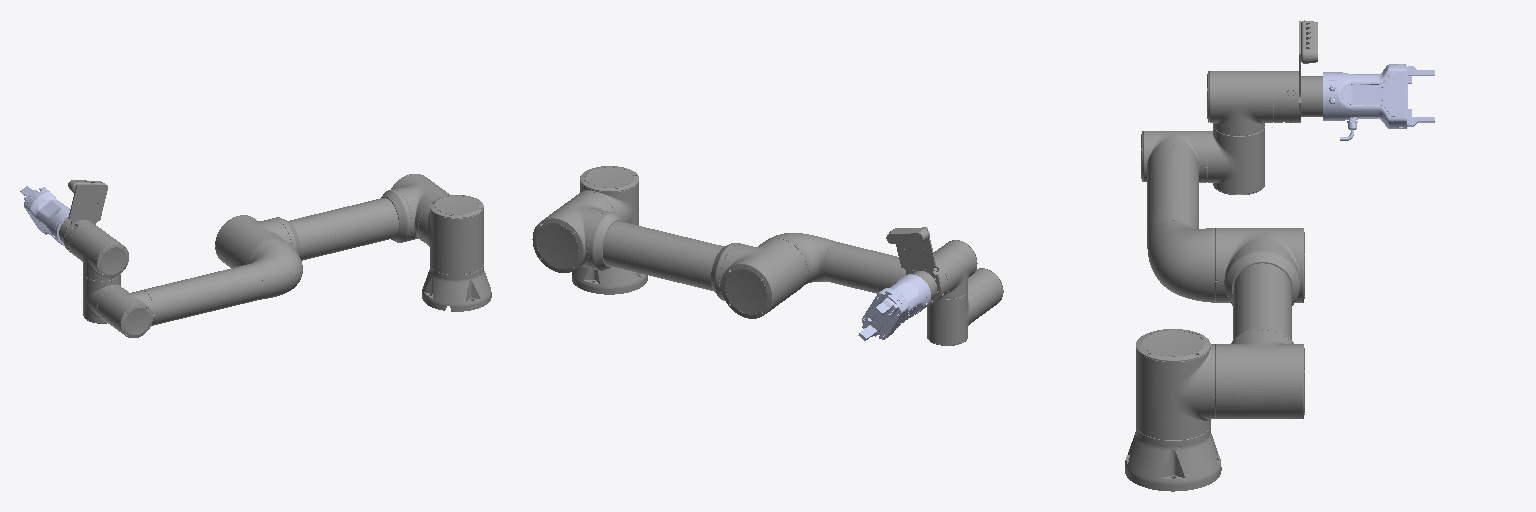
The robot description file, URDF, robot "robot":
<?xml version="1.0" ?>
<!-- =================================================================================== -->
<!-- |    This document was autogenerated by xacro from robot.xacro                    | -->
<!-- |    EDITING THIS FILE BY HAND IS NOT RECOMMENDED                                 | -->
<!-- =================================================================================== -->
<robot name="robot">
  <material name="silver_default">
    <color rgba="0.700 0.700 0.700 1.000"/>
  </material>
  <material name="steel_satin">
    <color rgba="0.6274509803921569 0.6274509803921569 0.6274509803921569 1.0"/>
  </material>
  <material name="opaque202209238">
    <color rgba="0.792156862745098 0.8196078431372549 0.9333333333333333 1.0"/>
  </material>
  <transmission name="Revolute 1_tran">
    <type>transmission_interface/SimpleTransmission</type>
    <joint name="Revolute 1">
      <hardwareInterface>hardware_interface/EffortJointInterface</hardwareInterface>
    </joint>
    <actuator name="Revolute 1_actr">
      <hardwareInterface>hardware_interface/EffortJointInterface</hardwareInterface>
      <mechanicalReduction>1</mechanicalReduction>
    </actuator>
  </transmission>
  <transmission name="Revolute 2_tran">
    <type>transmission_interface/SimpleTransmission</type>
    <joint name="Revolute 2">
      <hardwareInterface>hardware_interface/EffortJointInterface</hardwareInterface>
    </joint>
    <actuator name="Revolute 2_actr">
      <hardwareInterface>hardware_interface/EffortJointInterface</hardwareInterface>
      <mechanicalReduction>1</mechanicalReduction>
    </actuator>
  </transmission>
  <transmission name="Revolute 3_tran">
    <type>transmission_interface/SimpleTransmission</type>
    <joint name="Revolute 3">
      <hardwareInterface>hardware_interface/EffortJointInterface</hardwareInterface>
    </joint>
    <actuator name="Revolute 3_actr">
      <hardwareInterface>hardware_interface/EffortJointInterface</hardwareInterface>
      <mechanicalReduction>1</mechanicalReduction>
    </actuator>
  </transmission>
  <transmission name="Revolute 4_tran">
    <type>transmission_interface/SimpleTransmission</type>
    <joint name="Revolute 4">
      <hardwareInterface>hardware_interface/EffortJointInterface</hardwareInterface>
    </joint>
    <actuator name="Revolute 4_actr">
      <hardwareInterface>hardware_interface/EffortJointInterface</hardwareInterface>
      <mechanicalReduction>1</mechanicalReduction>
    </actuator>
  </transmission>
  <transmission name="Revolute 5_tran">
    <type>transmission_interface/SimpleTransmission</type>
    <joint name="Revolute 5">
      <hardwareInterface>hardware_interface/EffortJointInterface</hardwareInterface>
    </joint>
    <actuator name="Revolute 5_actr">
      <hardwareInterface>hardware_interface/EffortJointInterface</hardwareInterface>
      <mechanicalReduction>1</mechanicalReduction>
    </actuator>
  </transmission>
  <transmission name="Revolute 6_tran">
    <type>transmission_interface/SimpleTransmission</type>
    <joint name="Revolute 6">
      <hardwareInterface>hardware_interface/EffortJointInterface</hardwareInterface>
    </joint>
    <actuator name="Revolute 6_actr">
      <hardwareInterface>hardware_interface/EffortJointInterface</hardwareInterface>
      <mechanicalReduction>1</mechanicalReduction>
    </actuator>
  </transmission>
  <transmission name="Slider 1_tran">
    <type>transmission_interface/SimpleTransmission</type>
    <joint name="Slider 1">
      <hardwareInterface>hardware_interface/EffortJointInterface</hardwareInterface>
    </joint>
    <actuator name="Slider 1_actr">
      <hardwareInterface>hardware_interface/EffortJointInterface</hardwareInterface>
      <mechanicalReduction>1</mechanicalReduction>
    </actuator>
  </transmission>
  <transmission name="Slider 2_tran">
    <type>transmission_interface/SimpleTransmission</type>
    <joint name="Slider 2">
      <hardwareInterface>hardware_interface/EffortJointInterface</hardwareInterface>
    </joint>
    <actuator name="Slider 2_actr">
      <hardwareInterface>hardware_interface/EffortJointInterface</hardwareInterface>
      <mechanicalReduction>1</mechanicalReduction>
    </actuator>
  </transmission>
  <link name="base_link">
    <inertial>
      <origin rpy="0 0 0" xyz="-0.00031896 -0.00029673 0.042463"/>
      <mass value="4.70564595000992"/>
      <inertia ixx="0.00896516751489845" ixy="4.46364236603196e-05" ixz="5.61567585525384e-05" iyy="0.00896220397399733" iyz="5.20939082328063e-05" izz="0.0131440888158387"/>
    </inertial>
    <visual>
      <origin rpy="0 0 0" xyz="0 0 0"/>
      <geometry>
        <mesh filename="package://fairino_description/meshes/robot/base_link.stl" scale="0.001 0.001 0.001"/>
      </geometry>
      <material name="steel_satin"/>
    </visual>
    <collision>
      <origin rpy="0 0 0" xyz="0 0 0"/>
      <geometry>
        <mesh filename="package://fairino_description/meshes/robot/base_link.stl" scale="0.001 0.001 0.001"/>
      </geometry>
    </collision>
  </link>
  <link name="shoulder_link_2">
    <inertial>
      <origin rpy="0 0 0" xyz="5.0029E-07 -0.0040922 0.14629"/>
      <mass value="12.7283506221967"/>
      <inertia ixx="0.0324904484945794" ixy="2.9798628576367e-06" ixz="-3.41772232162537e-06" iyy="0.0315475447637031" iyz="-0.000294139937735305" izz="0.0237922630744243"/>
    </inertial>
    <visual>
      <origin rpy="0 0 0" xyz="0.0 -0.267926 -0.038498"/>
      <geometry>
        <mesh filename="package://fairino_description/meshes/robot/shoulder_link_2.stl" scale="0.001 0.001 0.001"/>
      </geometry>
      <material name="steel_satin"/>
    </visual>
    <collision>
      <origin rpy="0 0 0" xyz="0.0 -0.267926 -0.038498"/>
      <geometry>
        <mesh filename="package://fairino_description/meshes/robot/shoulder_link_2.stl" scale="0.001 0.001 0.001"/>
      </geometry>
    </collision>
  </link>
  <link name="upper_arm_link_2">
    <inertial>
      <origin rpy="0 0 0" xyz="-0.21250012898842047 0.07360475590734333 0.0003612005833610321"/>
      <mass value="42.0398618310652"/>
      <inertia ixx="0.0825681577757269" ixy="-1.2086265029243e-05" ixz="0.00211347784823412" iyy="1.30774152325306" iyz="8.31519637589651e-08" izz="1.3256534581236"/>
    </inertial>
    <visual>
      <origin rpy="0 0 0" xyz="1e-06 -0.328926 -0.115498"/>
      <geometry>
        <mesh filename="package://fairino_description/meshes/robot/upper_arm_link_2.stl" scale="0.001 0.001 0.001"/>
      </geometry>
      <material name="steel_satin"/>
    </visual>
    <collision>
      <origin rpy="0 0 0" xyz="1e-06 -0.328926 -0.115498"/>
      <geometry>
        <mesh filename="package://fairino_description/meshes/robot/upper_arm_link_2.stl" scale="0.001 0.001 0.001"/>
      </geometry>
    </collision>
  </link>
  <link name="forearm_link_2">
    <inertial>
      <origin rpy="0 0 0" xyz="-0.18795274195672013 -0.05437139246485462 0.00032082476189168596"/>
      <mass value="22.3137778025039"/>
      <inertia ixx="0.0249984950748972" ixy="-0.0209482427463521" ixz="0.00080817149669965" iyy="0.49377177426436" iyz="3.6299527768735e-05" izz="0.497422741993761"/>
    </inertial>
    <visual>
      <origin rpy="0 0 0" xyz="0.425 -0.328922 -0.11622"/>
      <geometry>
        <mesh filename="package://fairino_description/meshes/robot/forearm_link_2.stl" scale="0.001 0.001 0.001"/>
      </geometry>
      <material name="steel_satin"/>
    </visual>
    <collision>
      <origin rpy="0 0 0" xyz="0.425 -0.328922 -0.11622"/>
      <geometry>
        <mesh filename="package://fairino_description/meshes/robot/forearm_link_2.stl" scale="0.001 0.001 0.001"/>
      </geometry>
    </collision>
  </link>
  <link name="wrist1_link_2">
    <inertial>
      <origin rpy="0 0 0" xyz="-0.0001623194796800398 0.04385616645953977 0.00357481467536655"/>
      <mass value="4.73072450729012"/>
      <inertia ixx="0.00651118171882425" ixy="-4.45596692877359e-09" ixz="1.67633378067578e-07" iyy="0.00601458309153635" iyz="-8.73148118376299e-05" izz="0.00449640552053454"/>
    </inertial>
    <visual>
      <origin rpy="0 0 0" xyz="0.819999 -0.320918 -0.116892"/>
      <geometry>
        <mesh filename="package://fairino_description/meshes/robot/wrist1_link_2.stl" scale="0.001 0.001 0.001"/>
      </geometry>
      <material name="steel_satin"/>
    </visual>
    <collision>
      <origin rpy="0 0 0" xyz="0.819999 -0.320918 -0.116892"/>
      <geometry>
        <mesh filename="package://fairino_description/meshes/robot/wrist1_link_2.stl" scale="0.001 0.001 0.001"/>
      </geometry>
    </collision>
  </link>
  <link name="wrist2_link_2">
    <inertial>
      <origin rpy="0 0 0" xyz="-1.1492915712452145e-06 0.0038439701529248693 0.041258475474200085"/>
      <mass value="4.59893412947406"/>
      <inertia ixx="0.00622417118545315" ixy="-1.24489037522935e-07" ixz="-4.01152260298687e-08" iyy="0.00421128358018796" iyz="-6.60474609134876e-05" izz="0.00592002627851462"/>
    </inertial>
    <visual>
      <origin rpy="0 0 0" xyz="0.820161 -0.369718 -0.17373"/>
      <geometry>
        <mesh filename="package://fairino_description/meshes/robot/wrist2_link_2.stl" scale="0.001 0.001 0.001"/>
      </geometry>
      <material name="steel_satin"/>
    </visual>
    <collision>
      <origin rpy="0 0 0" xyz="0.820161 -0.369718 -0.17373"/>
      <geometry>
        <mesh filename="package://fairino_description/meshes/robot/wrist2_link_2.stl" scale="0.001 0.001 0.001"/>
      </geometry>
    </collision>
  </link>
  <link name="wrist3_link_2">
    <inertial>
      <origin rpy="0 0 0" xyz="-4.027825194841128e-05 0.019599888775950813 -8.410472660033697e-05"/>
      <mass value="1.53640343262628"/>
      <inertia ixx="0.000819398114710768" ixy="1.40371541390572e-07" ixz="2.56514879226621e-07" iyy="0.00120600149355399" iyz="1.53328688287657e-06" izz="0.000820555620170582"/>
    </inertial>
    <visual>
      <origin rpy="0 0 0" xyz="0.820161 -0.426718 -0.21873"/>
      <geometry>
        <mesh filename="package://fairino_description/meshes/robot/wrist3_link_2.stl" scale="0.001 0.001 0.001"/>
      </geometry>
      <material name="steel_satin"/>
    </visual>
    <collision>
      <origin rpy="0 0 0" xyz="0.820161 -0.426718 -0.21873"/>
      <geometry>
        <mesh filename="package://fairino_description/meshes/robot/wrist3_link_2.stl" scale="0.001 0.001 0.001"/>
      </geometry>
    </collision>
  </link>
  <link name="Component13_1">
    <inertial>
      <origin rpy="0 0 0" xyz="0.017607979307471155 0.0154966681769797 0.000389258431443662"/>
      <mass value="0.0660407714432898"/>
      <inertia ixx="1.28482922721468e-05" ixy="-1.83587694291276e-06" ixz="-1.26956573195253e-06" iyy="4.92961852464197e-06" iyz="-5.9527466607194e-07" izz="1.31224794575613e-05"/>
    </inertial>
    <visual>
      <origin rpy="0 0 0" xyz="0.858624 -0.630018 -0.24954"/>
      <geometry>
        <mesh filename="package://fairino_description/meshes/robot/Component13_1.stl" scale="0.001 0.001 0.001"/>
      </geometry>
      <material name="opaque202209238"/>
    </visual>
    <collision>
      <origin rpy="0 0 0" xyz="0.858624 -0.630018 -0.24954"/>
      <geometry>
        <mesh filename="package://fairino_description/meshes/robot/Component13_1.stl" scale="0.001 0.001 0.001"/>
      </geometry>
    </collision>
  </link>
  <link name="Component14_1">
    <inertial>
      <origin rpy="0 0 0" xyz="-0.01799352603252946 0.015496668168988093 0.0002780208608467727"/>
      <mass value="0.0660407714432901"/>
      <inertia ixx="1.28482914657606e-05" ixy="1.83587748646408e-06" ixz="-1.26956623060399e-06" iyy="4.92961740998499e-06" iyz="5.95273711167382e-07" izz="1.31224791512091e-05"/>
    </inertial>
    <visual>
      <origin rpy="0 0 0" xyz="0.78212 -0.630018 -0.18803"/>
      <geometry>
        <mesh filename="package://fairino_description/meshes/robot/Component14_1.stl" scale="0.001 0.001 0.001"/>
      </geometry>
      <material name="opaque202209238"/>
    </visual>
    <collision>
      <origin rpy="0 0 0" xyz="0.78212 -0.630018 -0.18803"/>
      <geometry>
        <mesh filename="package://fairino_description/meshes/robot/Component14_1.stl" scale="0.001 0.001 0.001"/>
      </geometry>
    </collision>
  </link>
  <link name="camera_mount_v4_1">
    <inertial>
      <origin rpy="0 0 0" xyz="0.017734464321493837 0.0001058994732428542 0.06618595154703602"/>
      <mass value="0.239842236423316"/>
      <inertia ixx="0.000281628769416689" ixy="4.51898245934501e-07" ixz="-3.90991677825872e-05" iyy="0.00042719088748755" iyz="1.68648354562789e-06" izz="0.000146193988814353"/>
    </inertial>
    <visual>
      <origin rpy="0 0 0" xyz="0.820161 -0.463718 -0.21873"/>
      <geometry>
        <mesh filename="package://fairino_description/meshes/robot/camera_mount_v4_1.stl" scale="0.001 0.001 0.001"/>
      </geometry>
      <material name="steel_satin"/>
    </visual>
    <collision>
      <origin rpy="0 0 0" xyz="0.820161 -0.463718 -0.21873"/>
      <geometry>
        <mesh filename="package://fairino_description/meshes/robot/camera_mount_v4_1.stl" scale="0.001 0.001 0.001"/>
      </geometry>
    </collision>
  </link>
  <link name="IntelRealsense_D435_Multibody_v1_1">
    <inertial>
      <origin rpy="0 0 0" xyz="-0.023195305092852392 0.011951132118777685 0.006152564065467381"/>
      <mass value="0.351321315810254"/>
      <inertia ixx="4.55703549741143e-05" ixy="7.21040605028422e-07" ixz="4.91455636263682e-05" iyy="0.000226860233237203" iyz="-2.03920104337174e-07" izz="0.000215797377550508"/>
    </inertial>
    <visual>
      <origin rpy="0 0 0" xyz="0.770193 -0.465718 -0.318279"/>
      <geometry>
        <mesh filename="package://fairino_description/meshes/robot/IntelRealsense_D435_Multibody_v1_1.stl" scale="0.001 0.001 0.001"/>
      </geometry>
      <material name="steel_satin"/>
    </visual>
    <collision>
      <origin rpy="0 0 0" xyz="0.770193 -0.465718 -0.318279"/>
      <geometry>
        <mesh filename="package://fairino_description/meshes/robot/IntelRealsense_D435_Multibody_v1_1.stl" scale="0.001 0.001 0.001"/>
      </geometry>
    </collision>
  </link>
  <link name="tool_changer_v1_1">
    <inertial>
      <origin rpy="0 0 0" xyz="-0.006395180069047157 0.015999659199221916 -0.024167731977817103"/>
      <mass value="0.754641971318803"/>
      <inertia ixx="0.000249699893652949" ixy="1.737499033538370e-14" ixz="2.831068712794149e-15" iyy="0.000370607557518721" iyz="-4.121702978920894e-15" izz="0.000249699893637434"/>
    </inertial>
    <visual>
      <origin rpy="0 0 0" xyz="0.813902 -0.469718 -0.242933"/>
      <geometry>
        <mesh filename="package://fairino_description/meshes/robot/tool_changer_v1_1.stl" scale="0.001 0.001 0.001"/>
      </geometry>
      <material name="steel_satin"/>
    </visual>
    <collision>
      <origin rpy="0 0 0" xyz="0.813902 -0.469718 -0.242933"/>
      <geometry>
        <mesh filename="package://fairino_description/meshes/robot/tool_changer_v1_1.stl" scale="0.001 0.001 0.001"/>
      </geometry>
    </collision>
  </link>
  <link name="RG75-300-0L_1">
    <inertial>
      <origin rpy="0 0 0" xyz="-0.006346877118321048 0.06537729430616601 -0.02436151887397306"/>
      <mass value="4.50915434771721"/>
      <inertia ixx="0.00858599528108694" ixy="1.39993206271782e-05" ixz="0.000342896569381357" iyy="0.00351662774478134" iyz="-2.42458742938378e-05" izz="0.0082696569225531"/>
    </inertial>
    <visual>
      <origin rpy="0 0 0" xyz="0.813902 -0.501718 -0.242933"/>
      <geometry>
        <mesh filename="package://fairino_description/meshes/robot/RG75-300-0L_1.stl" scale="0.001 0.001 0.001"/>
      </geometry>
      <material name="opaque202209238"/>
    </visual>
    <collision>
      <origin rpy="0 0 0" xyz="0.813902 -0.501718 -0.242933"/>
      <geometry>
        <mesh filename="package://fairino_description/meshes/robot/RG75-300-0L_1.stl" scale="0.001 0.001 0.001"/>
      </geometry>
    </collision>
  </link>
  <joint name="Revolute 1" type="revolute">
    <origin rpy="0 0 0" xyz="0.0 0.267926 0.038498"/>
    <parent link="base_link"/>
    <child link="shoulder_link_2"/>
    <axis xyz="-0.0 0.0 1.0"/>
    <limit lower="-3.14" upper="3.14" effort="150" velocity="1.5"/>
  </joint>
  <joint name="Revolute 2" type="revolute">
    <origin rpy="0 0 0" xyz="-1e-06 0.061 0.077"/>
    <parent link="shoulder_link_2"/>
    <child link="upper_arm_link_2"/>
    <axis xyz="-1e-05 1.0 -0.0"/>
    <limit lower="-3.14" upper="3.14" effort="150" velocity="1.5"/>
  </joint>
  <joint name="Revolute 3" type="revolute">
    <origin rpy="0 0 0" xyz="-0.424999 -4e-06 0.000722"/>
    <parent link="upper_arm_link_2"/>
    <child link="forearm_link_2"/>
    <axis xyz="-1e-05 1.0 -0.0"/>
    <limit lower="-3.14" upper="3.14" effort="150" velocity="1.5"/>
  </joint>
  <joint name="Revolute 4" type="revolute">
    <origin rpy="0 0 0" xyz="-0.394999 -0.008004 0.000672"/>
    <parent link="forearm_link_2"/>
    <child link="wrist1_link_2"/>
    <axis xyz="1e-05 -1.0 0.0"/>
    <limit lower="-3.14" upper="3.14" effort="150" velocity="1.5"/>
  </joint>
  <joint name="Revolute 5" type="revolute">
    <origin rpy="0 0 0" xyz="-0.000162 0.0488 0.056838"/>
    <parent link="wrist1_link_2"/>
    <child link="wrist2_link_2"/>
    <axis xyz="-4e-06 -0.0 -1.0"/>
    <limit lower="-3.14" upper="3.14" effort="150" velocity="1.5"/>
  </joint>
  <joint name="Revolute 6" type="revolute">
    <origin rpy="0 0 0" xyz="0.0 0.057 0.045"/>
    <parent link="wrist2_link_2"/>
    <child link="wrist3_link_2"/>
    <axis xyz="-0.0 -1.0 0.0"/>
    <limit lower="-3.14" upper="3.14" effort="150" velocity="1.5"/>
  </joint>
  <joint name="Slider 1" type="prismatic">
    <origin rpy="0 0 0" xyz="-0.044722 0.1283 0.006607"/>
    <parent link="RG75-300-0L_1"/>
    <child link="Component13_1"/>
    <axis xyz="0.499997 -0.0 -0.866027"/>
    <limit effort="100" lower="0.0" upper="0.0" velocity="100"/>
  </joint>
  <joint name="Slider 2" type="prismatic">
    <origin rpy="0 0 0" xyz="0.031782 0.1283 -0.054903"/>
    <parent link="RG75-300-0L_1"/>
    <child link="Component14_1"/>
    <axis xyz="-0.499997 0.0 0.866027"/>
    <limit effort="100" lower="0.0" upper="0.0" velocity="100"/>
  </joint>
  <joint name="Rigid 16" type="fixed">
    <origin rpy="0 0 0" xyz="0.0 0.037 0.0"/>
    <parent link="wrist3_link_2"/>
    <child link="camera_mount_v4_1"/>
  </joint>
  <joint name="Rigid 17" type="fixed">
    <origin rpy="0 0 0" xyz="0.049968 0.002 0.099549"/>
    <parent link="camera_mount_v4_1"/>
    <child link="IntelRealsense_D435_Multibody_v1_1"/>
  </joint>
  <joint name="Rigid 19" type="fixed">
    <origin rpy="0 0 0" xyz="0.006259 0.043 0.024203"/>
    <parent link="wrist3_link_2"/>
    <child link="tool_changer_v1_1"/>
  </joint>
  <joint name="Rigid 20" type="fixed">
    <origin rpy="0 0 0" xyz="0.0 0.032 0.0"/>
    <parent link="tool_changer_v1_1"/>
    <child link="RG75-300-0L_1"/>
  </joint>
</robot>

--- What the picture shows (computed from the rendered views, not written in the file) ---
Views: 3 orthographic renders of the robot side by side, from view 1: azimuth 30°, elevation 25°; view 2: azimuth 150°, elevation 25°; view 3: azimuth 270°, elevation 25°.
Robot: robot — 13 links, 12 joints (6 revolute, 2 prismatic, 4 fixed); root link base_link; default pose: every joint at zero.
Visible links, largest first — view 1: upper_arm_link_2, forearm_link_2, shoulder_link_2, base_link, wrist2_link_2, RG75-300-0L_1, camera_mount_v4_1, wrist1_link_2; view 2: upper_arm_link_2, forearm_link_2, shoulder_link_2, RG75-300-0L_1, wrist1_link_2, base_link, wrist2_link_2, camera_mount_v4_1, IntelRealsense_D435_Multibody_v1_1; view 3: upper_arm_link_2, forearm_link_2, shoulder_link_2, base_link, RG75-300-0L_1, wrist2_link_2, wrist1_link_2, wrist3_link_2, tool_changer_v1_1, IntelRealsense_D435_Multibody_v1_1.
Link boxes in pixels (x1,y1,x2,y2): upper_arm_link_2: (215, 174, 449, 267); forearm_link_2: (97, 238, 302, 337); shoulder_link_2: (418, 195, 483, 274); base_link: (422, 265, 491, 311); wrist2_link_2: (74, 226, 128, 280); RG75-300-0L_1: (24, 187, 69, 245); camera_mount_v4_1: (64, 184, 107, 247); wrist1_link_2: (83, 274, 120, 323); upper_arm_link_2: (532, 193, 806, 318); forearm_link_2: (768, 233, 1003, 319); shoulder_link_2: (579, 166, 638, 225); RG75-300-0L_1: (862, 274, 930, 339); wrist1_link_2: (927, 292, 977, 345); base_link: (572, 266, 647, 294); wrist2_link_2: (934, 240, 977, 298); camera_mount_v4_1: (895, 227, 940, 304); IntelRealsense_D435_Multibody_v1_1: (886, 228, 929, 243); upper_arm_link_2: (1215, 228, 1304, 418); forearm_link_2: (1141, 131, 1214, 302); shoulder_link_2: (1136, 329, 1214, 439); base_link: (1125, 426, 1221, 491); RG75-300-0L_1: (1323, 64, 1407, 140); wrist2_link_2: (1207, 71, 1273, 135); wrist1_link_2: (1208, 127, 1264, 194); wrist3_link_2: (1274, 71, 1303, 122); tool_changer_v1_1: (1304, 76, 1322, 116); IntelRealsense_D435_Multibody_v1_1: (1301, 20, 1317, 63).
Size in the robot's own frame: 0.9405 by 0.4786 by 0.3818 metres.
Meshes: 13 distinct files referenced, 13 mesh visuals loaded (13 binary STL).
